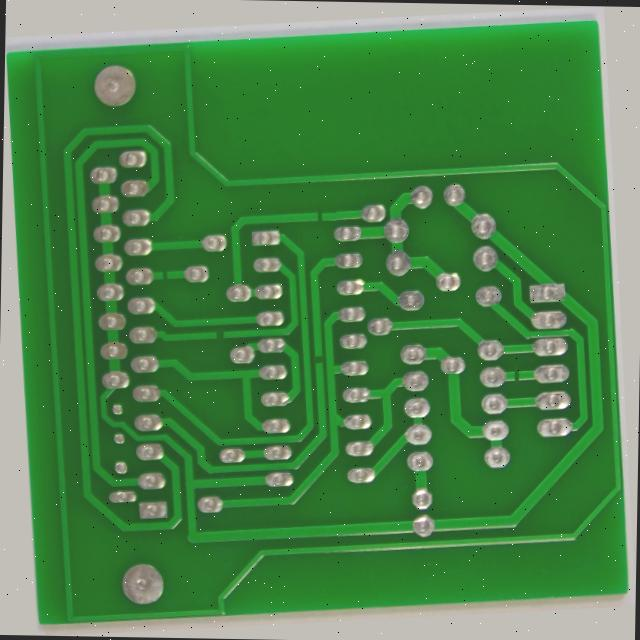open_circuit: (319, 196, 336, 219), (204, 319, 220, 336), (309, 353, 324, 370), (519, 385, 532, 401), (151, 253, 165, 267)
